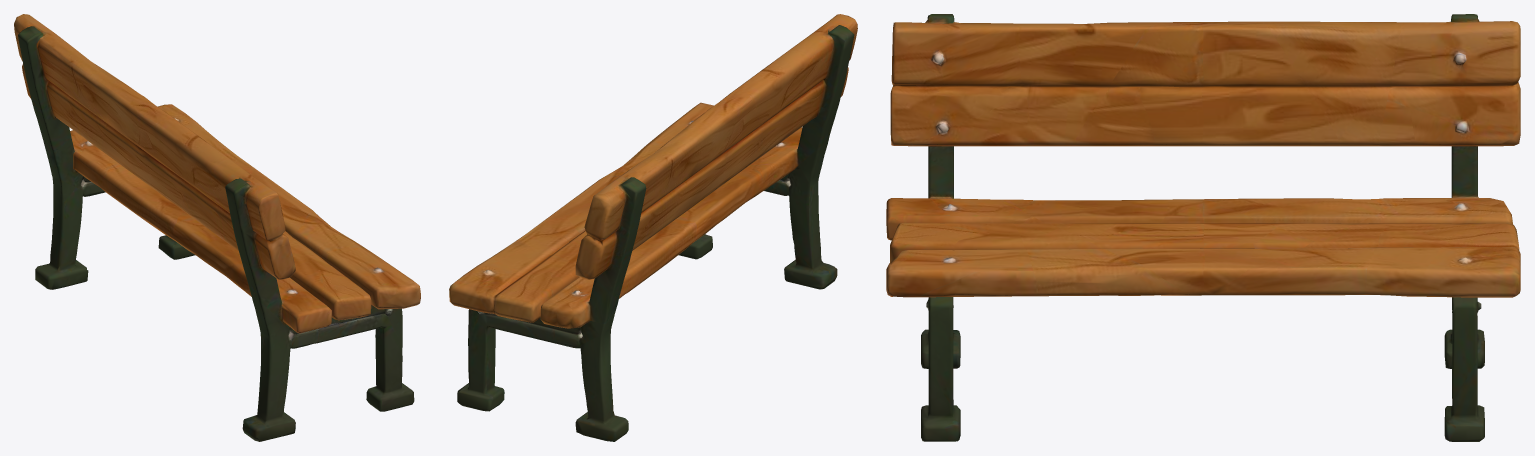
Rendered from bench.glb.
3 views of the same model, side by side, from view 1: azimuth 30°, elevation 25°; view 2: azimuth 150°, elevation 25°; view 3: azimuth 270°, elevation 25° (orthographic). The views are drawn at different scales.
Visible parts, largest first — view 1: tripo_node_6f1436b6-1dfb-44ae-a884-73d77bfc5ebb; view 2: tripo_node_6f1436b6-1dfb-44ae-a884-73d77bfc5ebb; view 3: tripo_node_6f1436b6-1dfb-44ae-a884-73d77bfc5ebb.
Boxes of the visible parts, <box> form: tripo_node_6f1436b6-1dfb-44ae-a884-73d77bfc5ebb: <box>14,14,420,441</box>; tripo_node_6f1436b6-1dfb-44ae-a884-73d77bfc5ebb: <box>449,14,857,441</box>; tripo_node_6f1436b6-1dfb-44ae-a884-73d77bfc5ebb: <box>886,14,1520,441</box>.
Size of the model in its own units: 0.7216 by 1 by 1.76.
Materials: 1 (1 with a texture image).
